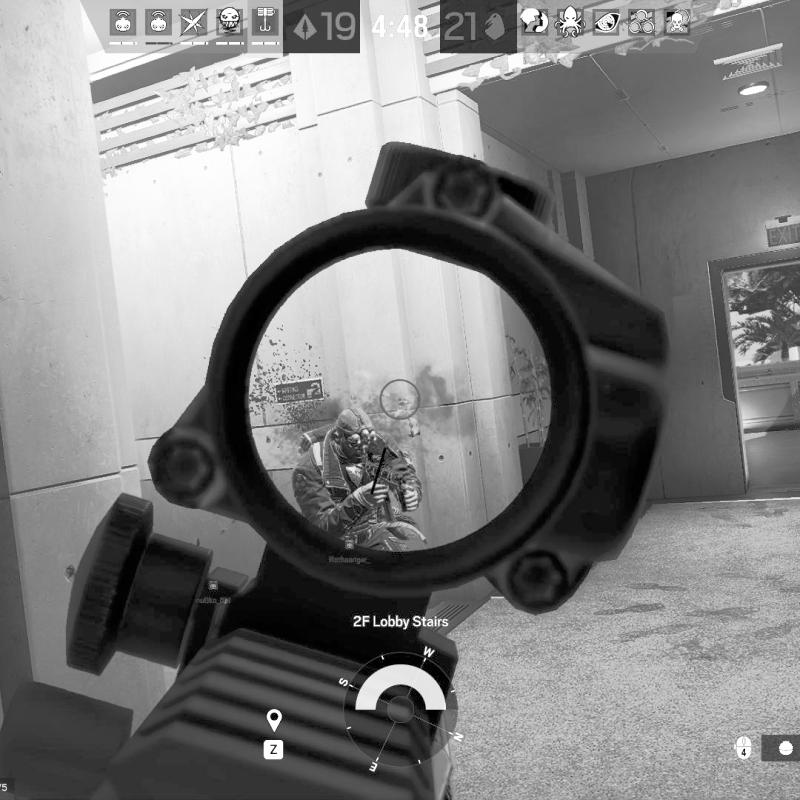Character: (292, 404, 424, 554)
Friend_label: (194, 578, 232, 605), (330, 538, 368, 564)
Head: (332, 407, 378, 465)
